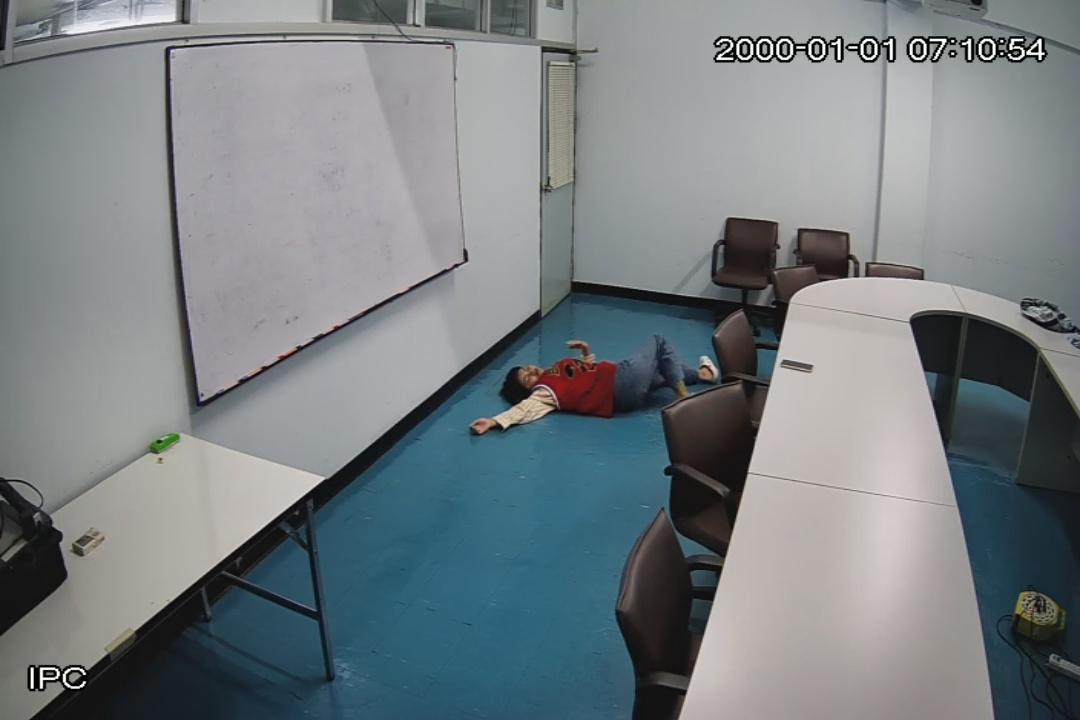fall: (471, 334, 722, 436)
